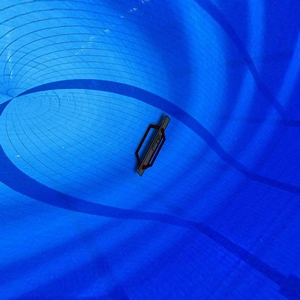submarine: (132, 107, 180, 180)
